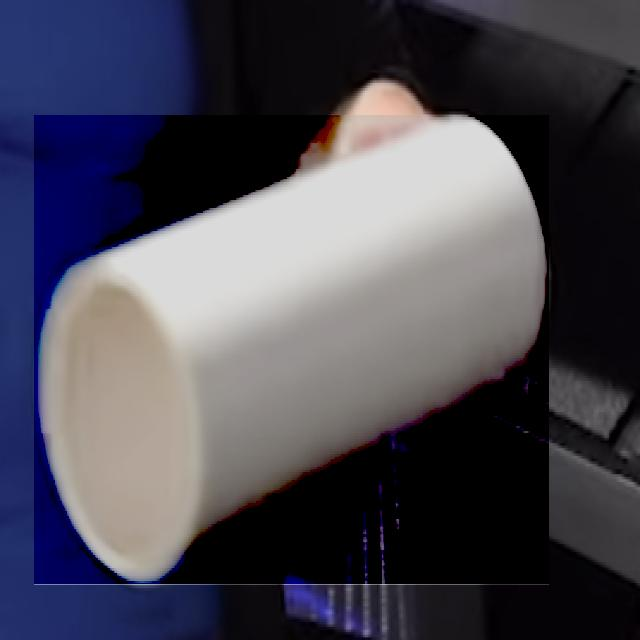Coral: (34, 115, 549, 586)
